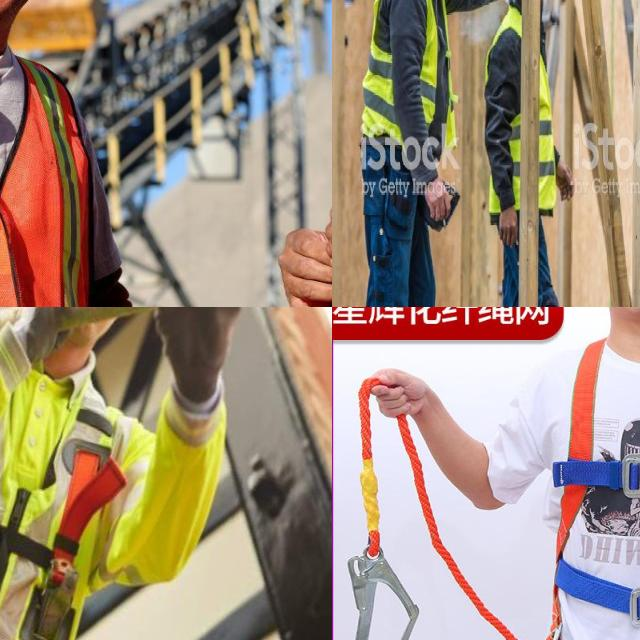Harness: (544, 339, 640, 640), (0, 409, 125, 640), (347, 533, 425, 640)
hand_noglove: (256, 222, 332, 307), (418, 167, 453, 231), (495, 200, 520, 255), (555, 156, 577, 206)
person: (0, 0, 139, 307), (484, 0, 563, 307), (379, 0, 455, 307)
vest: (0, 55, 101, 307), (486, 13, 559, 211), (369, 0, 451, 141)
